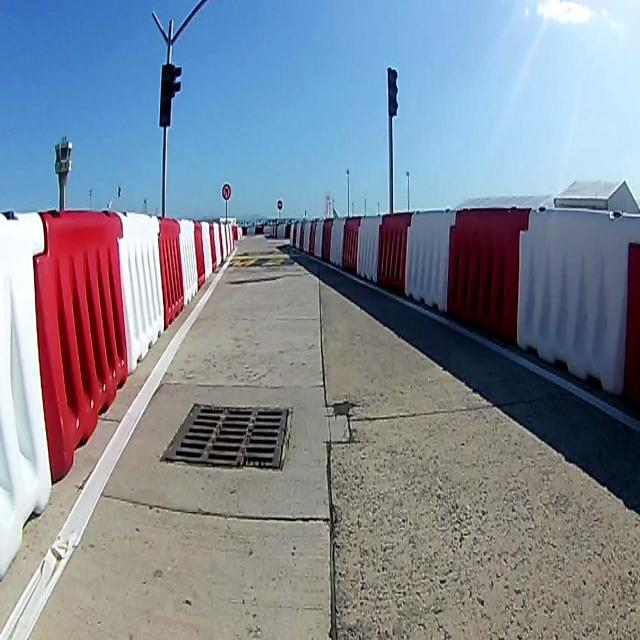soladonulmez: (222, 183, 231, 201)
